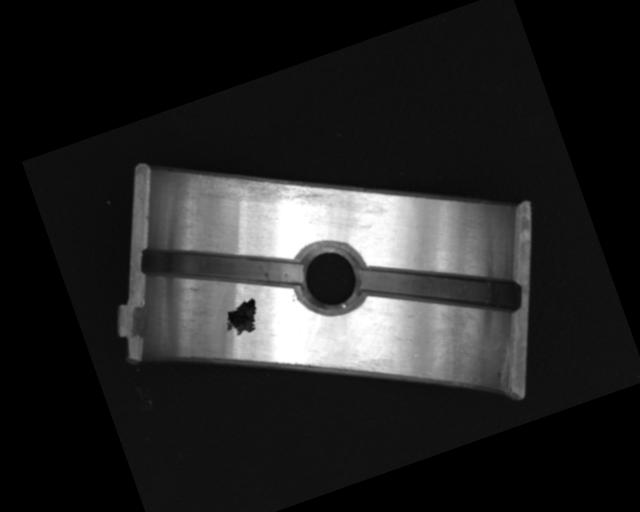blot: (216, 295, 265, 341)
gap: (356, 223, 523, 354), (137, 202, 305, 328)
hole: (285, 230, 376, 324)
scratch: (189, 130, 345, 241)
